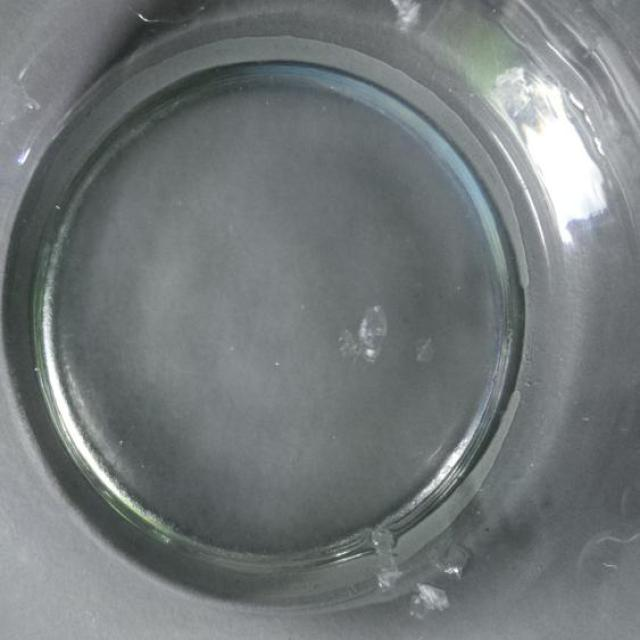fiber: (336, 300, 390, 368), (369, 521, 409, 592), (434, 542, 488, 580), (411, 575, 454, 620), (414, 336, 440, 370)
